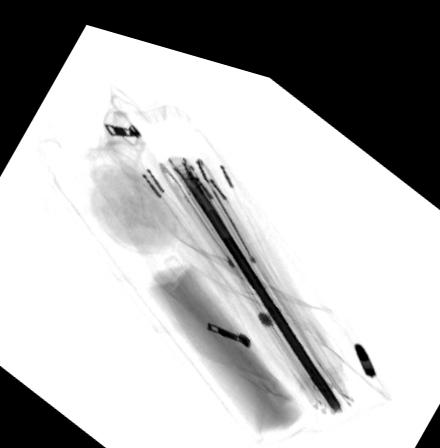Bullet: (352, 319, 378, 354)
